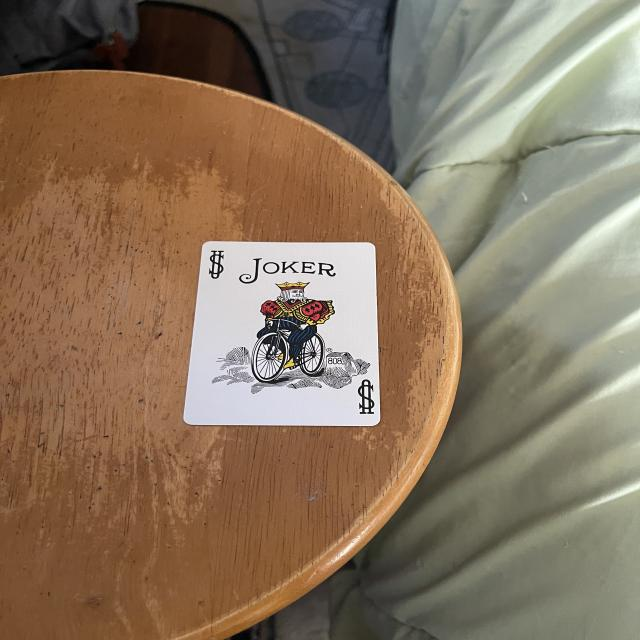Joker: (156, 232, 383, 437)
